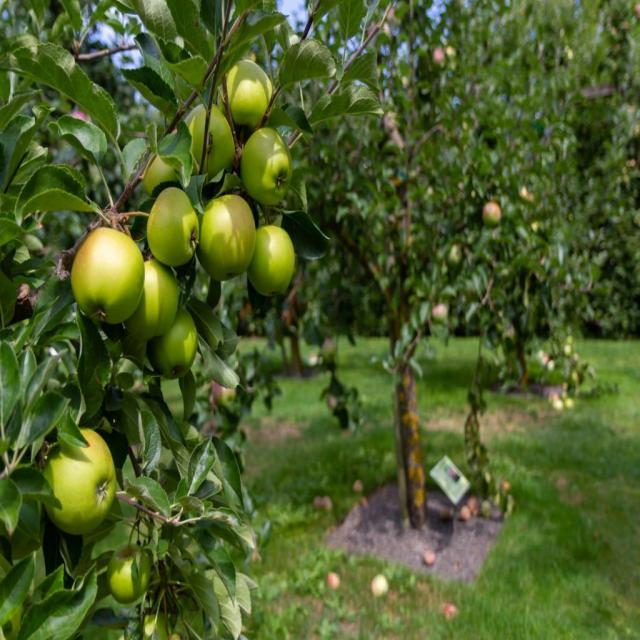Green Apple: (44, 427, 120, 525), (69, 225, 145, 322), (195, 192, 255, 281), (241, 125, 294, 207), (246, 223, 297, 298), (132, 263, 180, 342), (148, 192, 199, 266), (181, 103, 233, 174), (222, 60, 274, 128), (155, 314, 196, 379)
